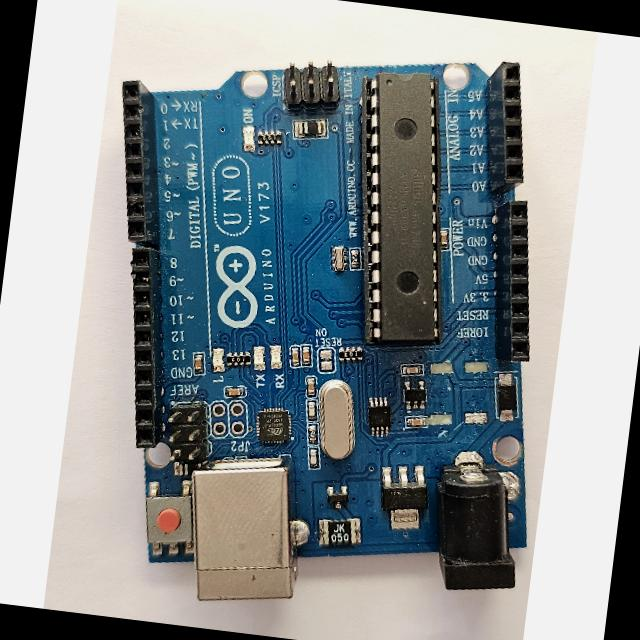missing_capacitors: (427, 349, 499, 435)
